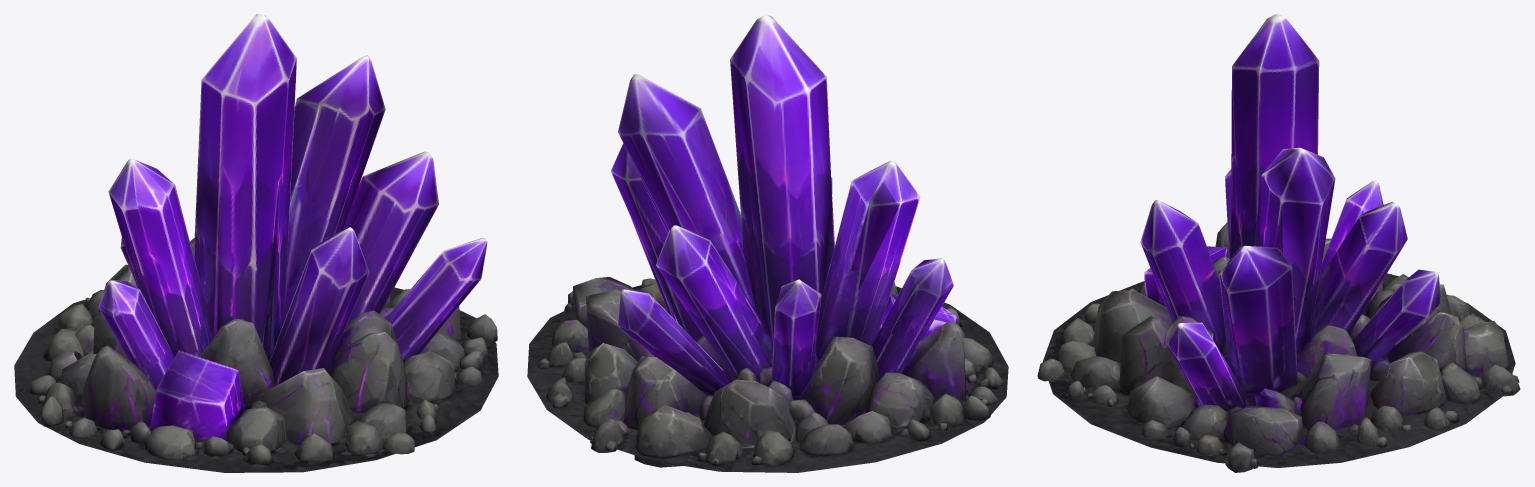
Rendered from plasma_minerals.fbx.
The picture shows the model from 3 angles, left to right: view 1: azimuth 30°, elevation 25°; view 2: azimuth 150°, elevation 25°; view 3: azimuth 270°, elevation 25°; orthographic projection. The views are drawn at different scales.
Visible parts, largest first — view 1: mesh_node; view 2: mesh_node; view 3: mesh_node.
Part boxes in pixels (box(x1,y1,x2,y2)): mesh_node: box(14, 14, 498, 472); mesh_node: box(527, 14, 1008, 472); mesh_node: box(1037, 14, 1520, 472).
Bounding box in the file's own units: 14.57 × 12 × 14.19.
Materials: 1 (1 with a texture image).
